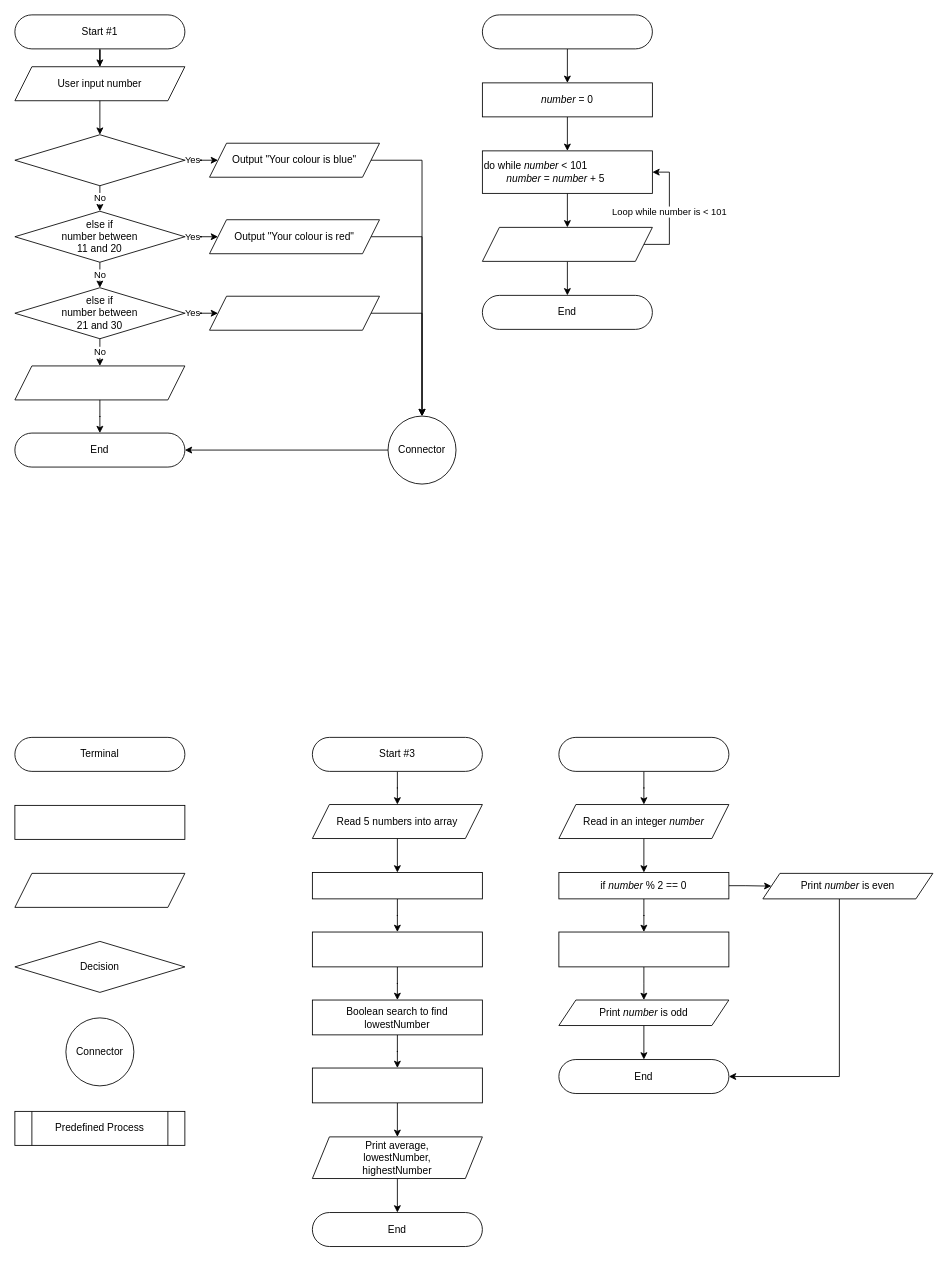
The diagram is 948 pixels wide and 1261 high, and some of its shapes have lost their labels. The shapes that lost their labels are listed below. From the top down, each one's centre as x and y in pixels, then its label:
pixel 567 31: Start #2
pixel 99 160: if number between 0 and 10
pixel 567 244: print output number
pixel 294 312: Output "Your colour is green"
pixel 99 382: Output "Not a valid colour"
pixel 643 754: Start #4
pixel 99 822: Process
pixel 99 890: Input/Output
pixel 397 885: array.sort
pixel 397 949: average = (array0 + array1 + array2 + array3 + array4) / 5
pixel 643 949: else
pixel 397 1085: Boolean search to find highestNumber
